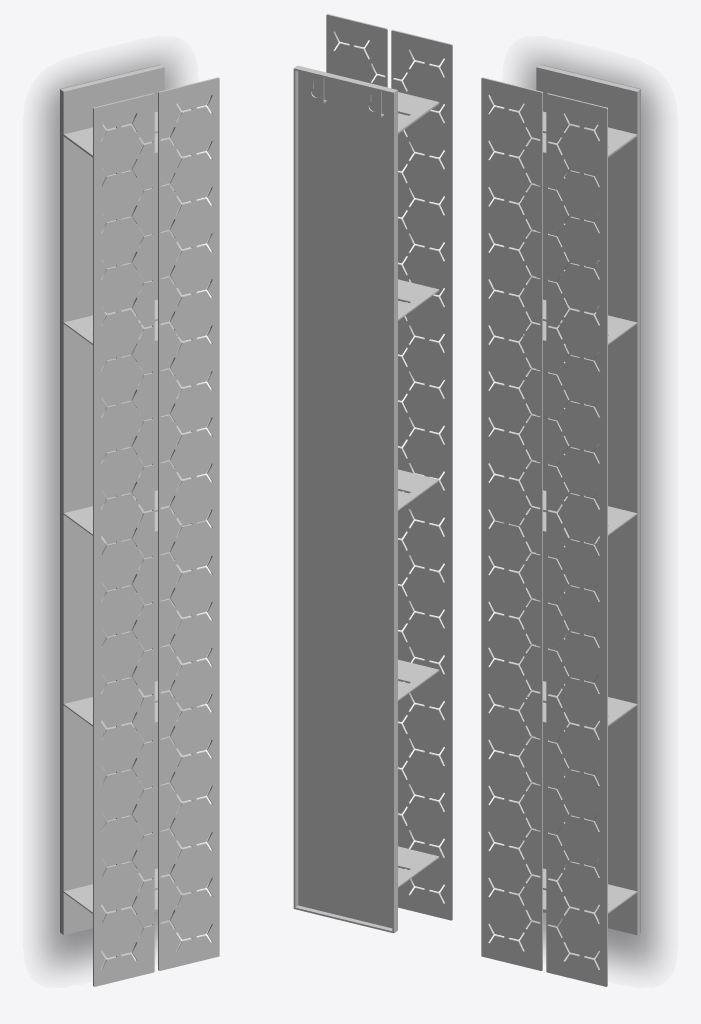
The model's file is bee-prima.1c5bd0d27d.ar.glb.
3 views of the same model, side by side, from view 1: azimuth 30°, elevation 25°; view 2: azimuth 150°, elevation 25°; view 3: azimuth 330°, elevation 25° (orthographic).
Visible parts, largest first — view 1: NAUO1, object 2; view 2: NAUO1; view 3: NAUO1, object 2.
Boxes of the visible parts, x1,y1,x2,y2 form: NAUO1: (60,64,219,986); object 2: (39,54,181,969); NAUO1: (293,14,452,933); NAUO1: (481,64,640,986); object 2: (519,54,661,969).
Bounding box in the file's own units: 0.23 × 1.08 × 0.096.
Materials: 2 (1 with a texture image).
